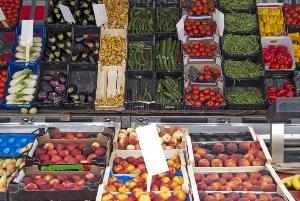bell_pepper: (258, 2, 286, 38), (260, 38, 290, 70), (264, 72, 294, 100), (288, 29, 300, 69), (288, 32, 300, 41), (284, 83, 294, 91), (278, 45, 288, 52), (271, 24, 278, 32)
eggplant: (66, 66, 96, 106), (39, 64, 66, 104), (73, 28, 99, 64), (46, 29, 70, 62), (76, 0, 100, 26), (48, 0, 74, 24), (74, 34, 88, 43), (57, 72, 66, 84), (47, 32, 56, 43), (67, 85, 78, 93), (75, 10, 83, 17)
peach: (195, 172, 284, 201), (17, 171, 101, 197), (104, 176, 187, 201), (37, 143, 106, 167), (194, 145, 268, 167), (114, 152, 188, 170), (120, 131, 180, 150), (41, 126, 109, 138), (84, 173, 96, 182), (214, 143, 225, 152), (266, 184, 278, 192), (172, 177, 184, 184), (169, 138, 178, 147), (94, 148, 105, 155), (76, 133, 86, 139), (167, 160, 175, 167)
pear: (0, 132, 38, 158), (1, 155, 24, 191), (6, 159, 16, 172), (20, 147, 28, 154)
tomato: (185, 58, 223, 80), (186, 84, 224, 104), (186, 18, 218, 41), (0, 0, 22, 28), (184, 42, 218, 58), (186, 0, 218, 16), (1, 66, 14, 102), (0, 27, 16, 55), (0, 55, 16, 71), (213, 69, 219, 76), (0, 76, 6, 82), (196, 9, 202, 15), (11, 16, 16, 23), (206, 30, 213, 35), (212, 44, 217, 50), (2, 60, 7, 64)
zucchini: (126, 72, 156, 110), (154, 74, 184, 109), (153, 37, 181, 73), (127, 35, 153, 71), (155, 1, 181, 33), (128, 1, 152, 34), (162, 39, 167, 56), (128, 18, 134, 31), (144, 82, 148, 96), (158, 82, 162, 92), (150, 50, 153, 61)
